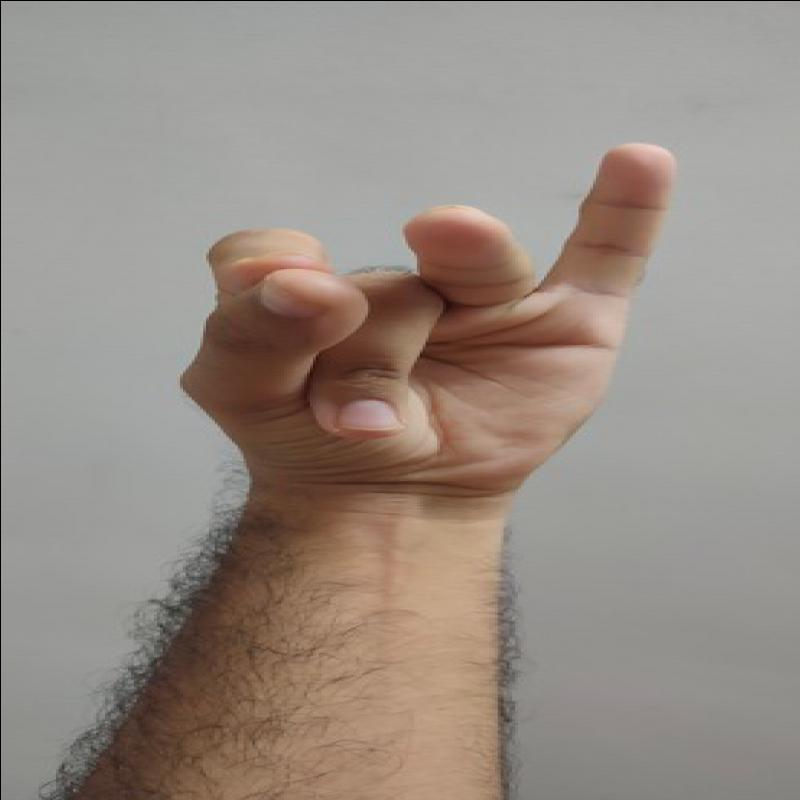Katakam: (163, 123, 686, 515)
